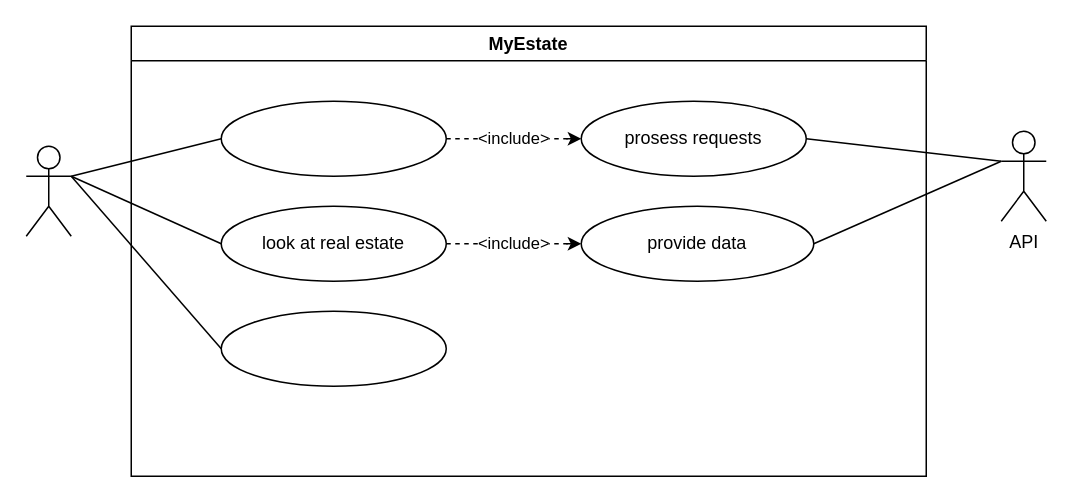
Some shapes in this 1073 by 503 pixel diagram are drawn without their labels. The centre of each missing label's shape, as x and y in pixels:
"search for real estate" goes at point (333, 138).
"see details" goes at point (333, 348).
"User" goes at point (48, 190).
